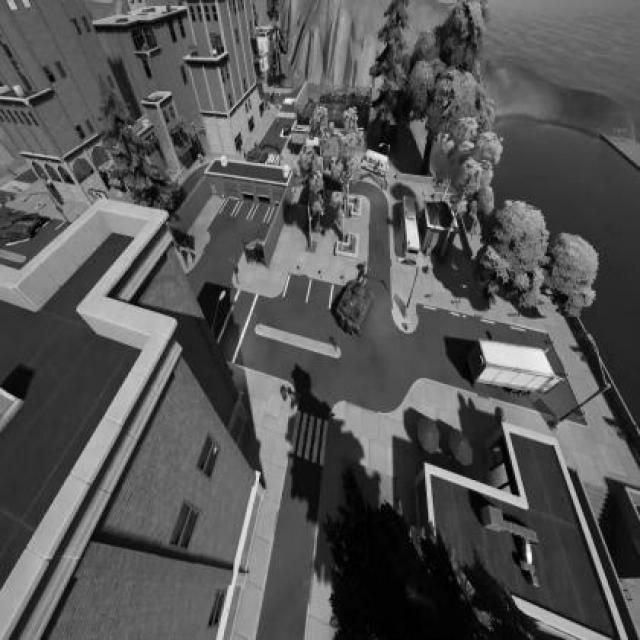tank: (335, 264, 374, 336), (1, 200, 42, 250), (246, 142, 269, 164), (284, 124, 290, 138)
